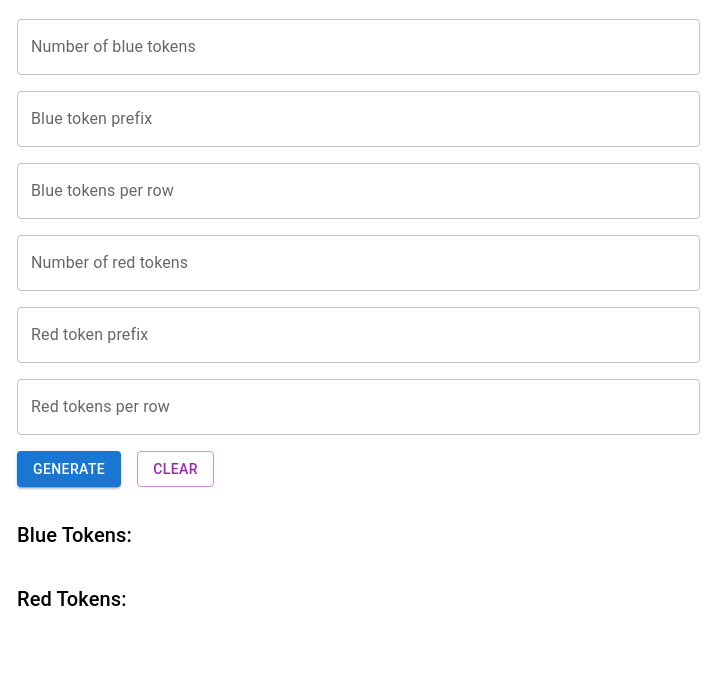
Scenario: TokenGenerator Component › generates and displays blue and red tokens correctly
Note: Fill inputs with valid values
Type "6" into the number field labelled "Number of blue tokens".
click(358, 47); type("6")  # box [17, 19, 700, 75]
Type "Blue-" into the field labelled "Blue token prefix".
click(358, 119); type("Blue-")  # box [17, 91, 700, 147]
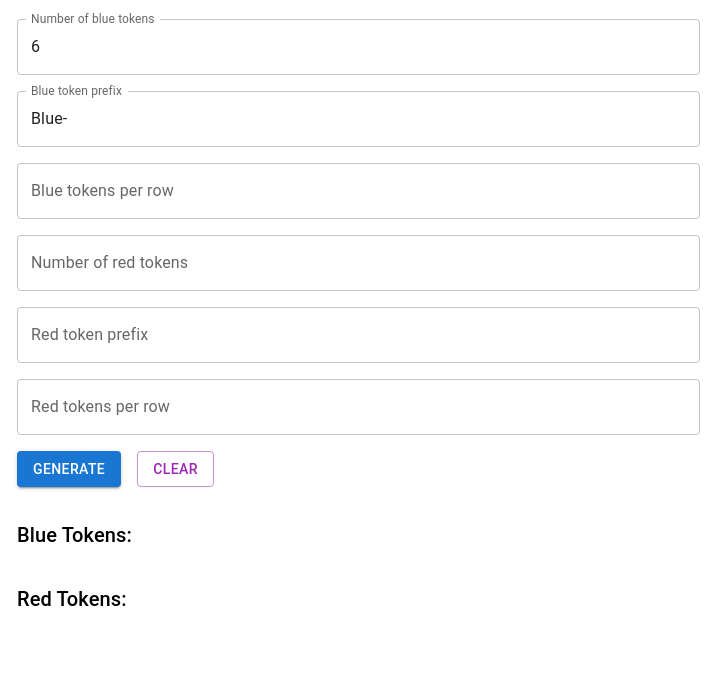
Type "3" into the number field labelled "Blue tokens per row".
click(358, 191); type("3")  # box [17, 163, 700, 219]
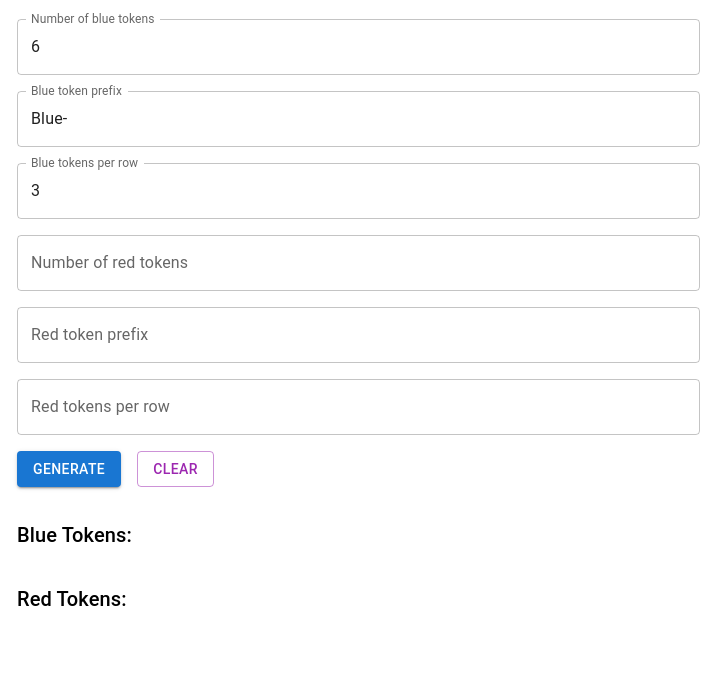
Type "4" into the number field labelled "Number of red tokens".
click(358, 263); type("4")  # box [17, 235, 700, 291]
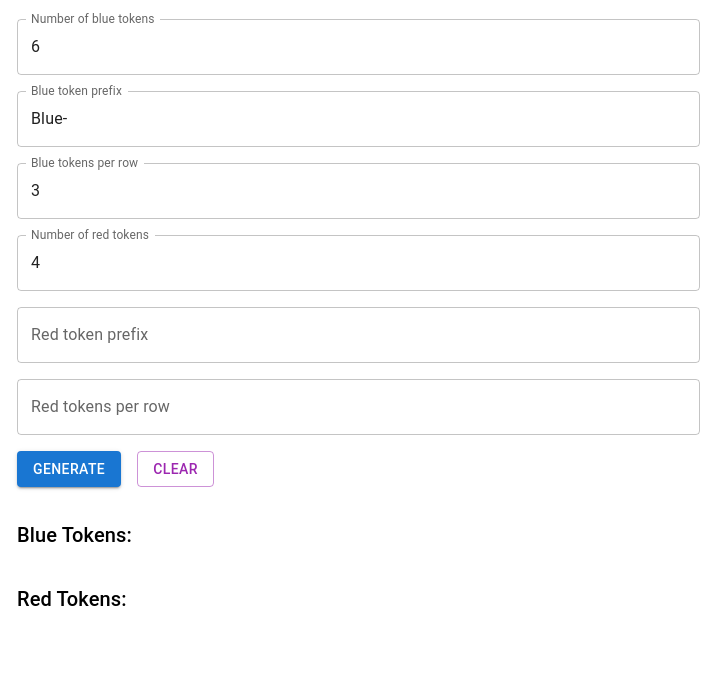
Type "Red-" into the field labelled "Red token prefix".
click(358, 335); type("Red-")  # box [17, 307, 700, 363]
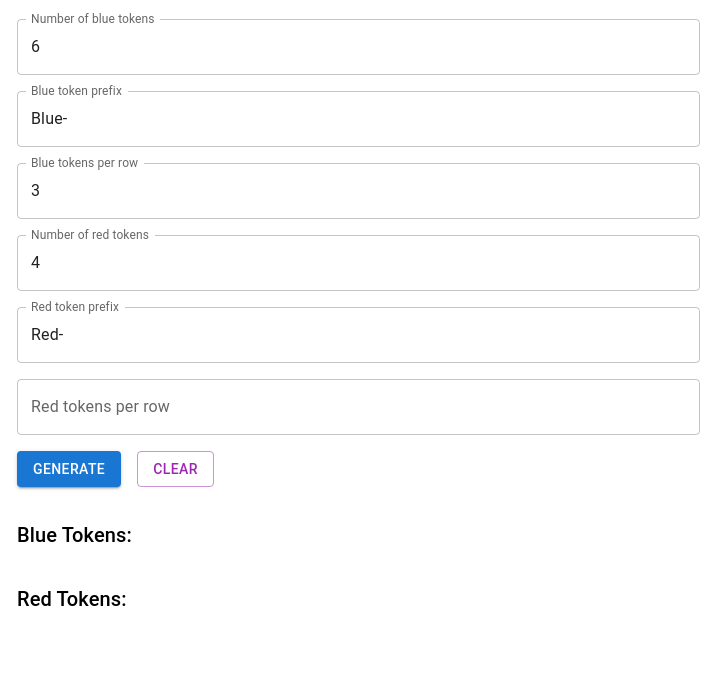
Type "2" into the number field labelled "Red tokens per row".
click(358, 407); type("2")  # box [17, 379, 700, 435]
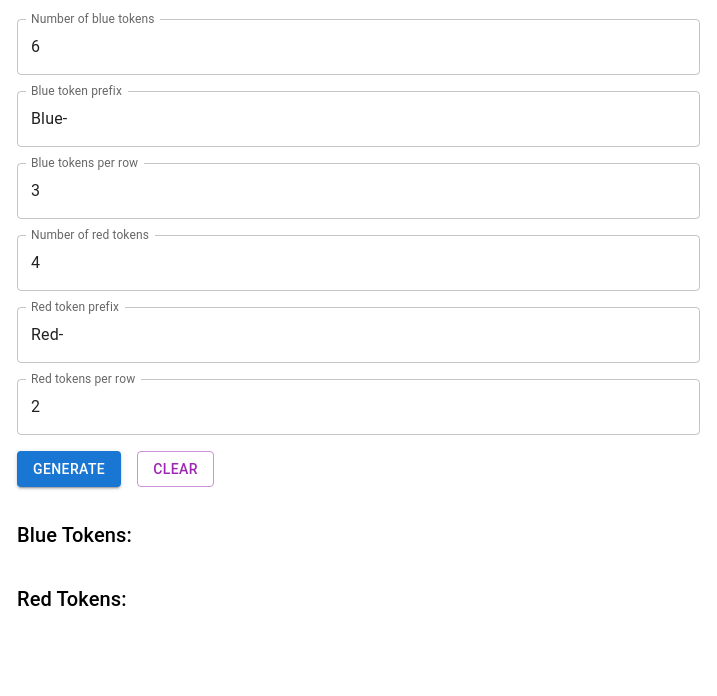
Note: Click the generate button
Click the button "Generate".
click(69, 469)  # box [17, 451, 121, 488]
(page scrolled)
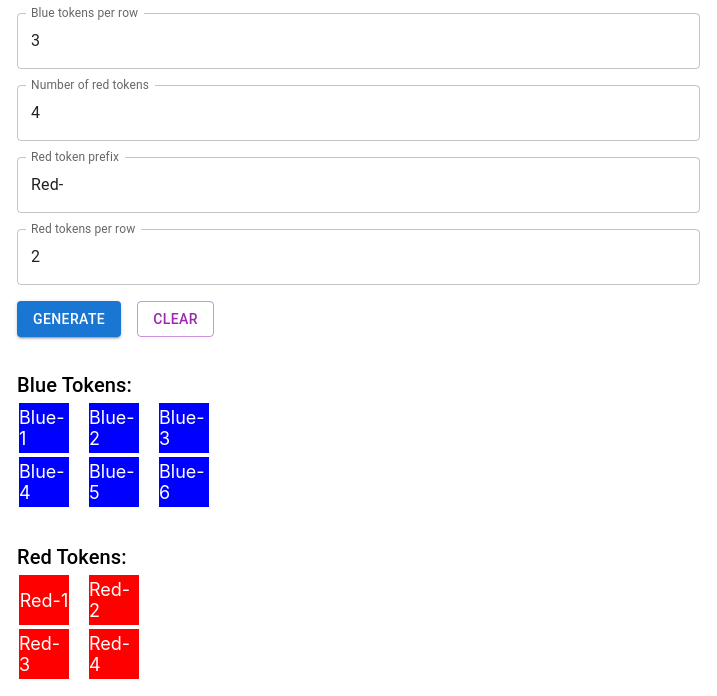
Now the text "Blue-1" is shown, box [19, 404, 69, 454]
Now the text "Blue-2" is shown, box [89, 404, 139, 454]
Now the text "Blue-3" is shown, box [159, 404, 209, 454]
